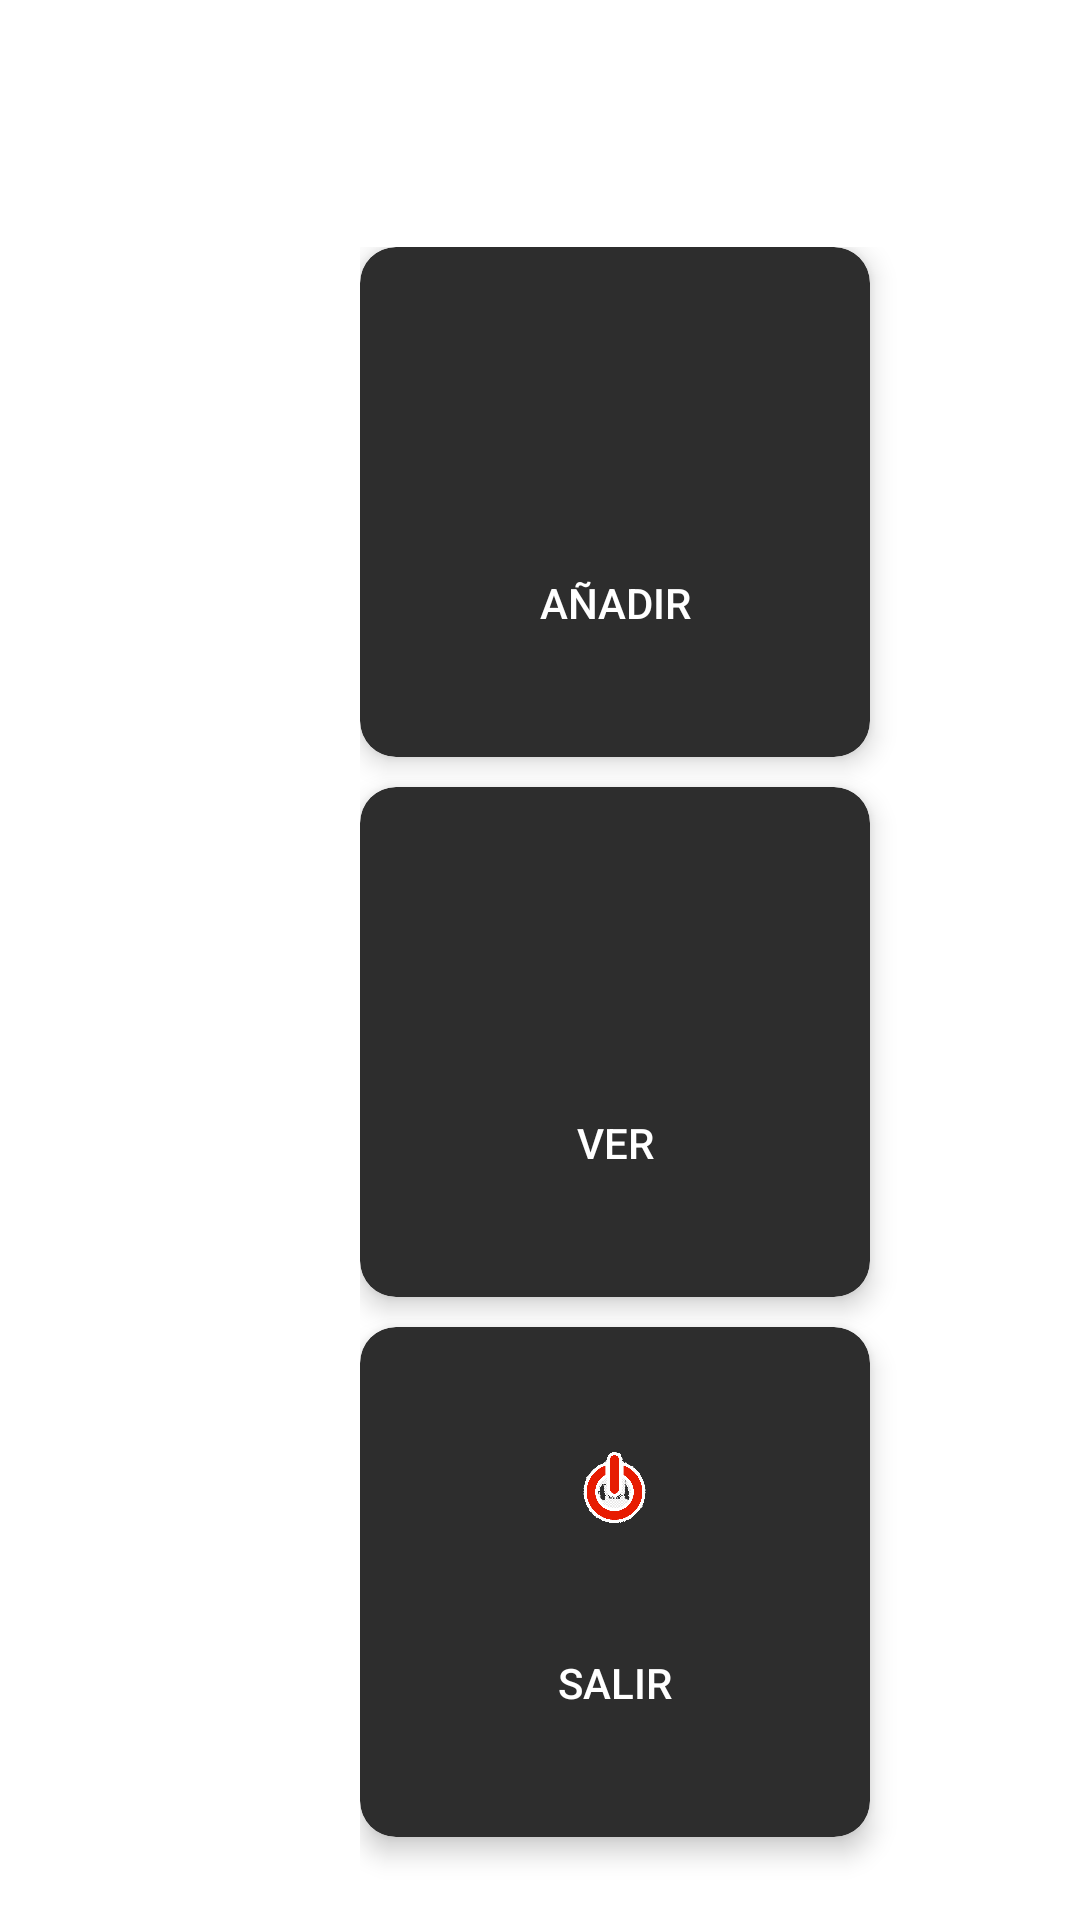

Screen size 1080px x 1920px. Icon name, then its center in pixels as [x,y]:
close: [614,1487]
